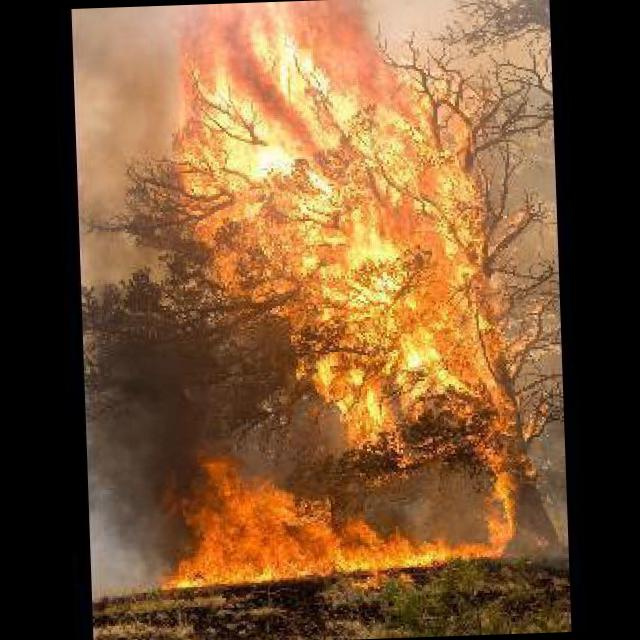Fire: (169, 0, 521, 458), (140, 433, 528, 592)
